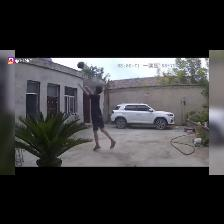person: (78, 84, 115, 150)
